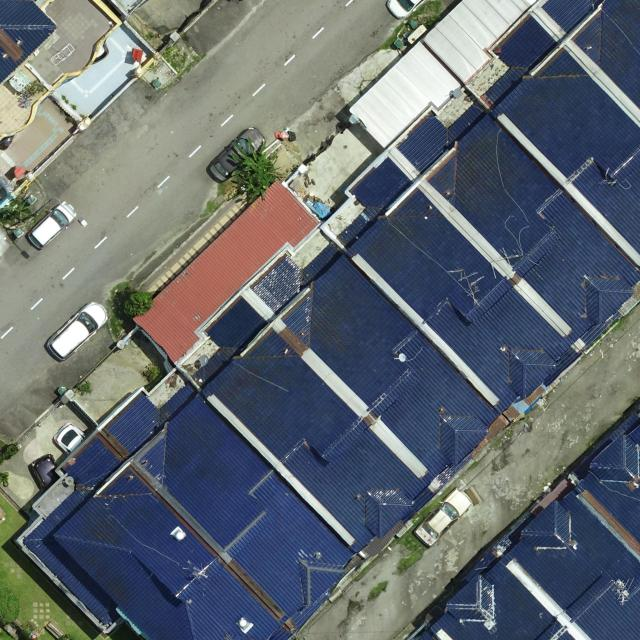Tree: (227, 136, 286, 203), (124, 291, 154, 318)
